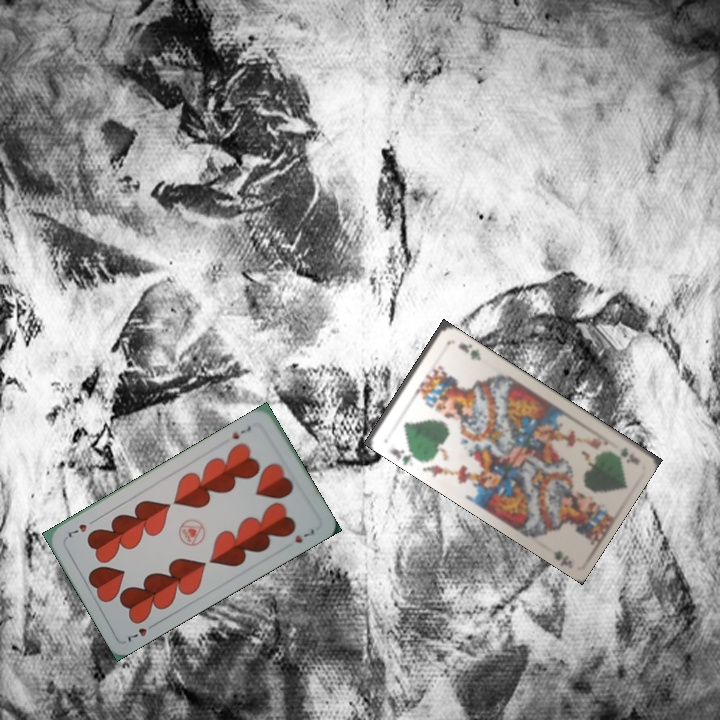GK: (386, 444, 419, 466), (615, 443, 638, 464)
H7: (123, 619, 159, 645), (228, 422, 254, 442)
